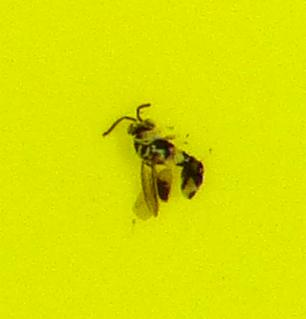Hymenoptera: (100, 100, 206, 219)
